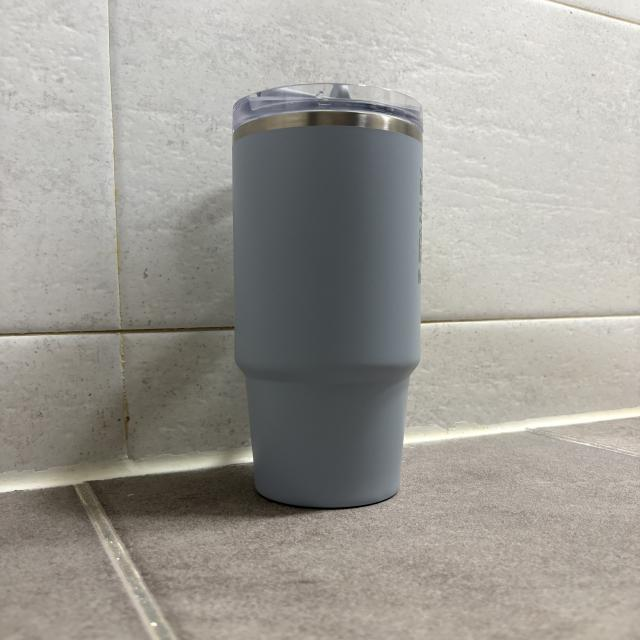waterbottle: (233, 83, 421, 509)
